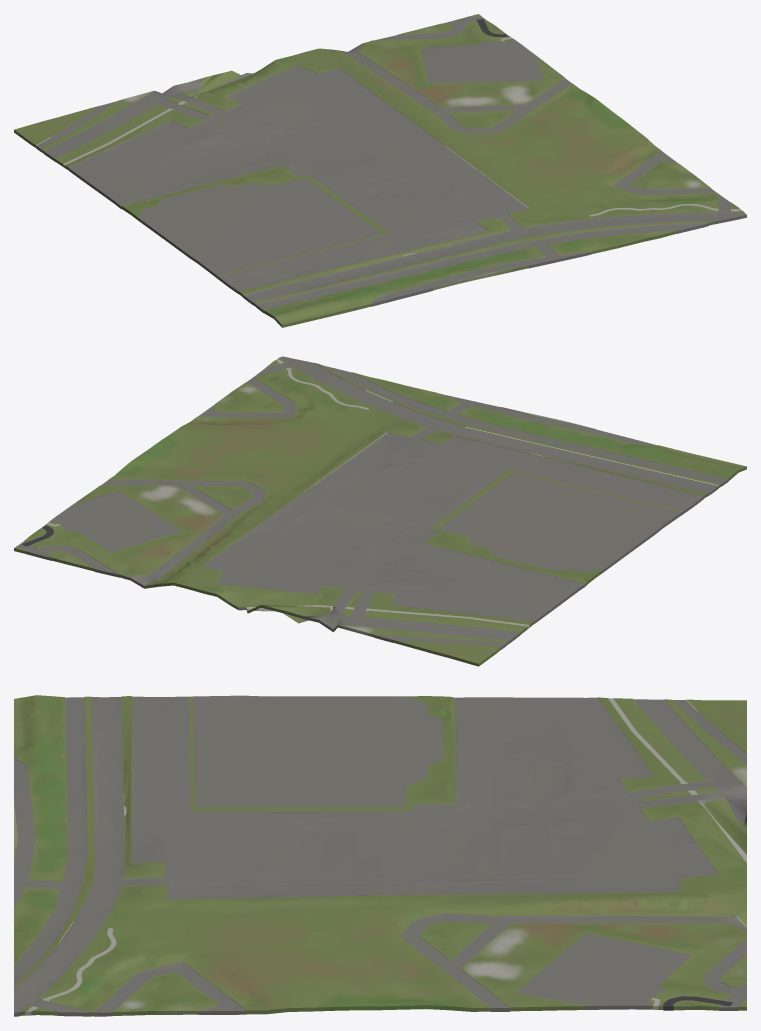
3 views of the same model, one above another, from view 1: azimuth 30°, elevation 25°; view 2: azimuth 150°, elevation 25°; view 3: azimuth 270°, elevation 25° (orthographic). The views are drawn at different scales.
Visible parts, largest first — view 1: T--3--5.L2:utd:matte; view 2: T--3--5.L2:utd:matte; view 3: T--3--5.L2:utd:matte.
Boxes of the visible parts, x1,y1,x2,y2 form: T--3--5.L2:utd:matte: [14, 14, 746, 327]; T--3--5.L2:utd:matte: [14, 356, 746, 666]; T--3--5.L2:utd:matte: [14, 695, 746, 1016].
Bounding box in the file's own units: 256 × 7.11 × 256.
